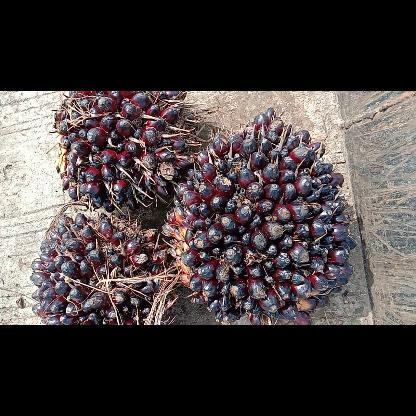TBS mentah: (160, 105, 358, 323), (47, 90, 199, 214), (27, 210, 177, 324)
